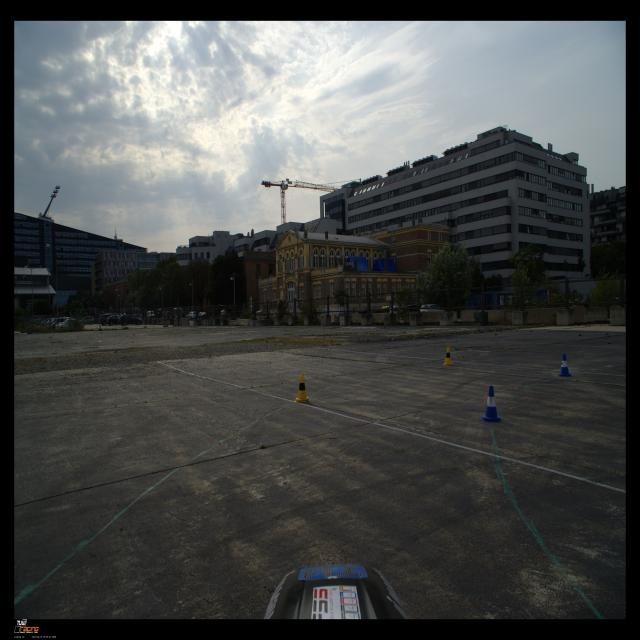blue_cone: (480, 386, 502, 422), (556, 354, 574, 376)
yellow_cone: (294, 374, 311, 403), (442, 346, 454, 366)
